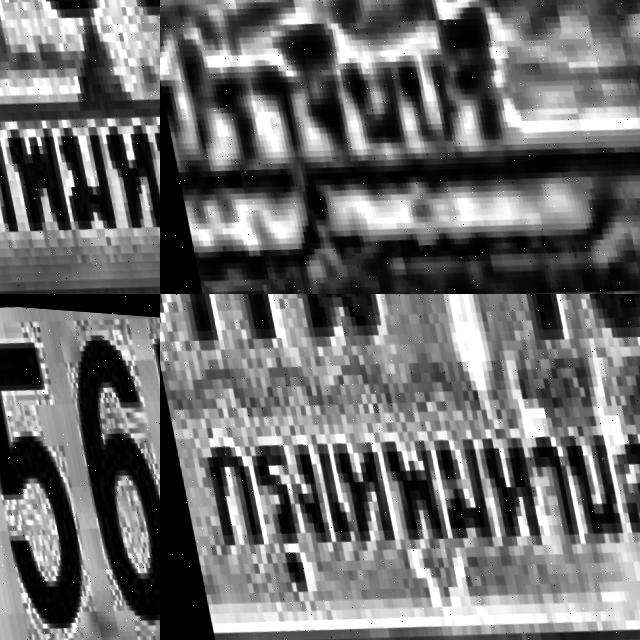license-plate: (160, 294, 640, 640), (160, 0, 640, 294), (0, 294, 160, 640), (0, 0, 160, 294)
